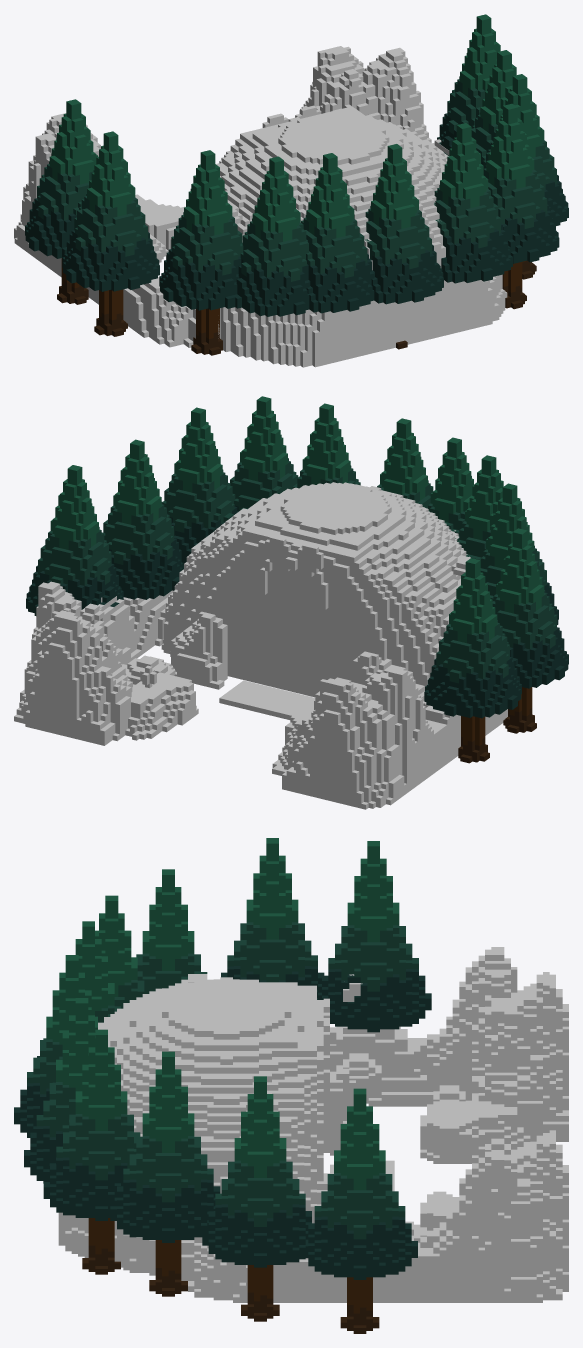
Rendered from fbx_cave_entrance.fbx.
The picture shows the model from 3 angles, top to bottom: view 1: azimuth 30°, elevation 25°; view 2: azimuth 150°, elevation 25°; view 3: azimuth 270°, elevation 25°; orthographic projection. The views are drawn at different scales.
Parts seen in each view (by area): view 1: vox_entrance_cave2:Mesh, Mesh6, Mesh, Mesh4, Mesh5, Mesh3, Mesh1, obj_forest_regulartree:Mesh, Mesh7, Mesh9, Mesh2, Mesh8; view 2: vox_entrance_cave2:Mesh, Mesh7, Mesh6, Mesh8, Mesh9, Mesh2, obj_forest_regulartree:Mesh, Mesh, Mesh3, Mesh5, Mesh1, Mesh4; view 3: vox_entrance_cave2:Mesh, Mesh9, Mesh8, Mesh2, Mesh7, obj_forest_regulartree:Mesh, Mesh6, Mesh3, Mesh, Mesh5, Mesh4, Mesh1.
Part boxes in pixels (<box>): vox_entrance_cave2:Mesh: <box>14,46,507,367</box>; Mesh6: <box>62,131,159,336</box>; Mesh: <box>159,150,243,355</box>; Mesh4: <box>233,156,310,316</box>; Mesh5: <box>365,144,443,349</box>; Mesh3: <box>434,123,512,283</box>; Mesh1: <box>301,153,374,313</box>; obj_forest_regulartree:Mesh: <box>483,103,559,309</box>; Mesh7: <box>25,99,97,304</box>; Mesh9: <box>437,14,500,155</box>; Mesh2: <box>483,74,568,279</box>; Mesh8: <box>471,50,516,164</box>; vox_entrance_cave2:Mesh: <box>14,482,507,809</box>; Mesh7: <box>424,558,521,763</box>; Mesh6: <box>492,528,568,733</box>; Mesh8: <box>103,439,183,599</box>; Mesh9: <box>26,465,123,615</box>; Mesh2: <box>162,407,237,564</box>; obj_forest_regulartree:Mesh: <box>230,396,298,513</box>; Mesh: <box>480,483,558,624</box>; Mesh3: <box>292,403,360,488</box>; Mesh5: <box>377,418,433,508</box>; Mesh1: <box>428,437,473,535</box>; Mesh4: <box>455,455,503,559</box>; vox_entrance_cave2:Mesh: <box>58,947,568,1302</box>; Mesh9: <box>301,1088,417,1333</box>; Mesh8: <box>202,1076,311,1321</box>; Mesh2: <box>110,1051,220,1296</box>; Mesh7: <box>322,841,431,1032</box>; obj_forest_regulartree:Mesh: <box>43,1029,140,1274</box>; Mesh6: <box>221,838,324,999</box>; Mesh3: <box>24,998,95,1183</box>; Mesh: <box>136,869,207,993</box>; Mesh5: <box>14,955,97,1137</box>; Mesh4: <box>95,895,144,1008</box>; Mesh1: <box>37,921,120,1057</box>.
Size of the model in its own units: 106 by 41.96 by 85.93.
